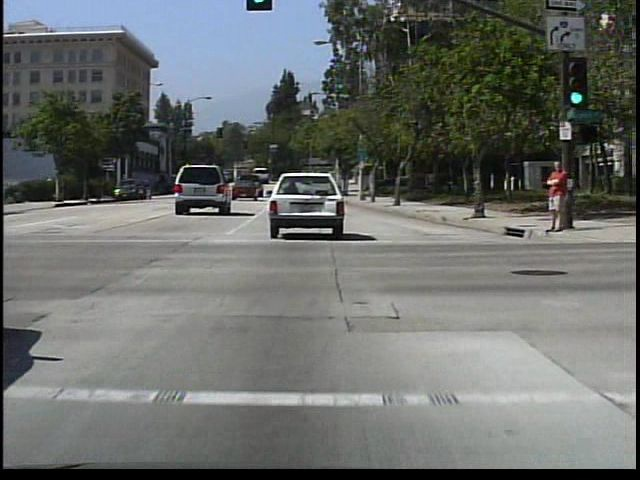person: (541, 158, 568, 236)
